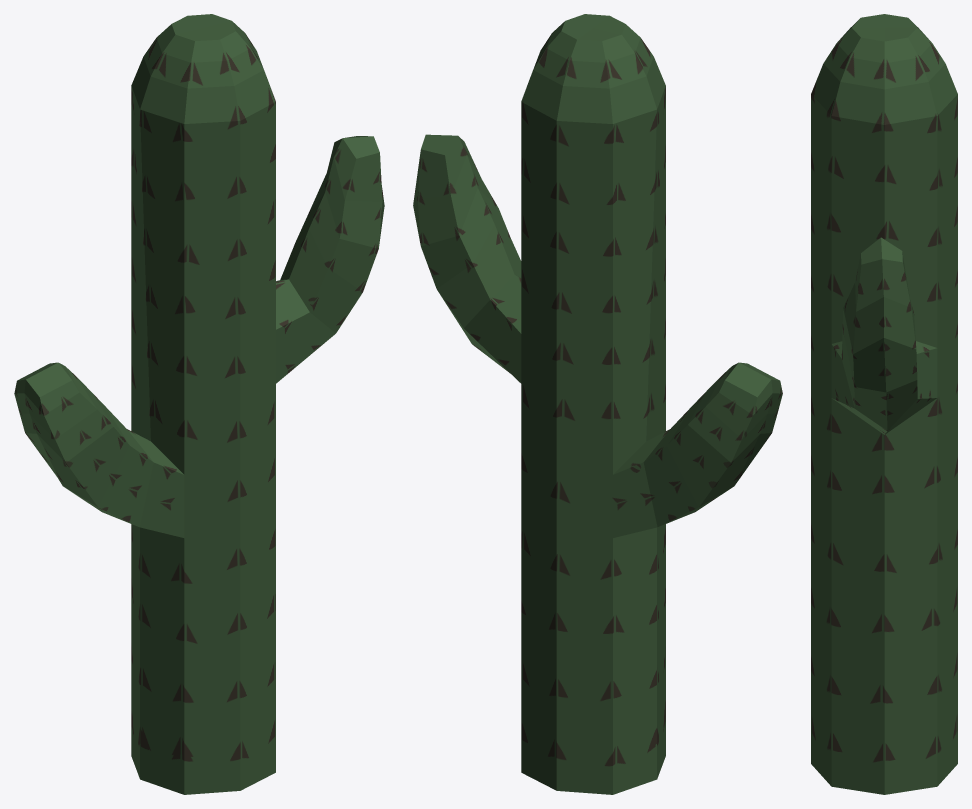
The model's file is cactus-3.glb.
3 renders of one model, left to right at view 1: azimuth 30°, elevation 25°; view 2: azimuth 150°, elevation 25°; view 3: azimuth 270°, elevation 25°, orthographic.
Parts seen in each view (by area): view 1: cactus3; view 2: cactus3; view 3: cactus3.
Part boxes in pixels (left/top/right/bottom): cactus3: left=14, top=14, right=384, bottom=794; cactus3: left=413, top=14, right=782, bottom=794; cactus3: left=811, top=14, right=957, bottom=794.
Bounding box in the file's own units: 2.35 × 4.59 × 0.8295.
1 material, 1 textured.
